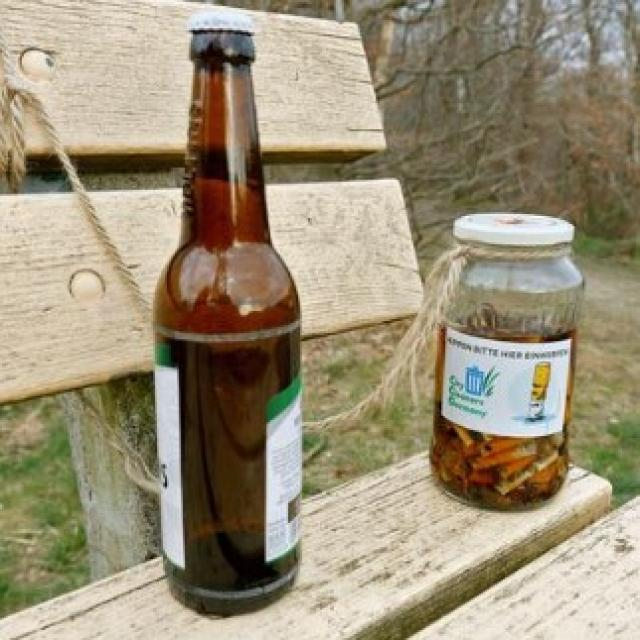electronic: (152, 2, 584, 626)
